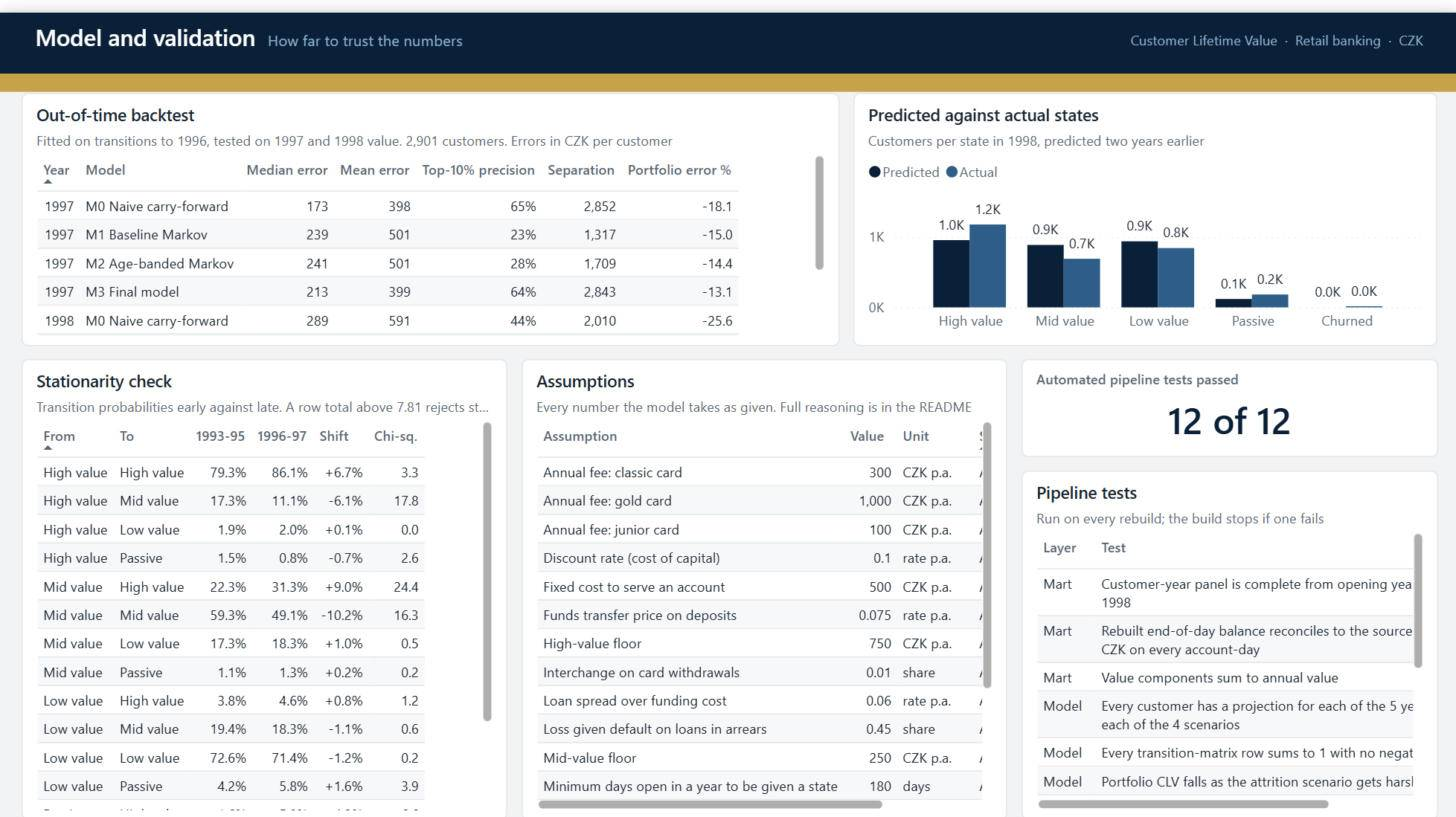

The page's visual inventory and layout, read from the dashboard file:
{"tool":"powerbi","page":{"name":"Model and validation","canvas":[1280,720],"ordinal":4},"visuals":[{"type":"textbox","box":[0,0,1280,54],"z":1000},{"type":"textbox","box":[0,54,1280,3],"z":2000},{"type":"textbox","box":[20,0,760,54],"z":3000},{"type":"textbox","box":[840,8,420,44],"z":4000},{"type":"tableEx","title":"Out-of-time backtest","fields":{"Values":["Backtest Metric.Predicted year","Backtest Metric.Model","Backtest Metric.Median abs error","Backtest Metric.Mean abs error","Backtest Metric.Top-decile precision","Backtest Metric.Separation","Backtest Metric.Portfolio error"]},"box":[20,70,716.3,222],"z":5000},{"type":"clusteredColumnChart","title":"Predicted against actual states","fields":{"Category":["Backtest State.State"],"Y":["Key Measures.Backtest predicted customers","Key Measures.Backtest actual customers"]},"box":[748.3,70,511.7,222],"z":6000},{"type":"tableEx","title":"Stationarity check","fields":{"Values":["Stationarity.From state","Stationarity.To state","Stationarity.Probability early","Stationarity.Probability late","Stationarity.Shift","Stationarity.Chi-square contribution"]},"box":[20,304,425.6,404],"z":7000},{"type":"tableEx","title":"Assumptions","fields":{"Values":["Assumption.Assumption","Assumption.Value","Assumption.Unit","Assumption.Source"]},"box":[457.6,304,425.6,404],"z":8000},{"type":"card","title":"Automated pipeline tests passed","fields":{"Values":["Key Measures.Pipeline tests passed"]},"box":[895.2,304,364.8,86],"z":9000},{"type":"tableEx","title":"Pipeline tests","fields":{"Values":["Pipeline Test.Layer","Pipeline Test.Test","Pipeline Test.Result"]},"box":[895.2,402,364.8,306],"z":10000}]}

Visuals, with their boxes in screenshot pixels (x1, y1, x2, y2), scaled from the page's 1280x720 canvas onto the 1456x817 screenshot:
textbox: BBox(0, 0, 1455, 61)
textbox: BBox(0, 61, 1455, 65)
textbox: BBox(23, 0, 887, 61)
textbox: BBox(956, 9, 1433, 59)
"Out-of-time backtest" tableEx: BBox(23, 79, 838, 331)
"Predicted against actual states" clusteredColumnChart: BBox(851, 79, 1433, 331)
"Stationarity check" tableEx: BBox(23, 345, 507, 803)
"Assumptions" tableEx: BBox(521, 345, 1005, 803)
"Automated pipeline tests passed" card: BBox(1018, 345, 1433, 443)
"Pipeline tests" tableEx: BBox(1018, 456, 1433, 803)
